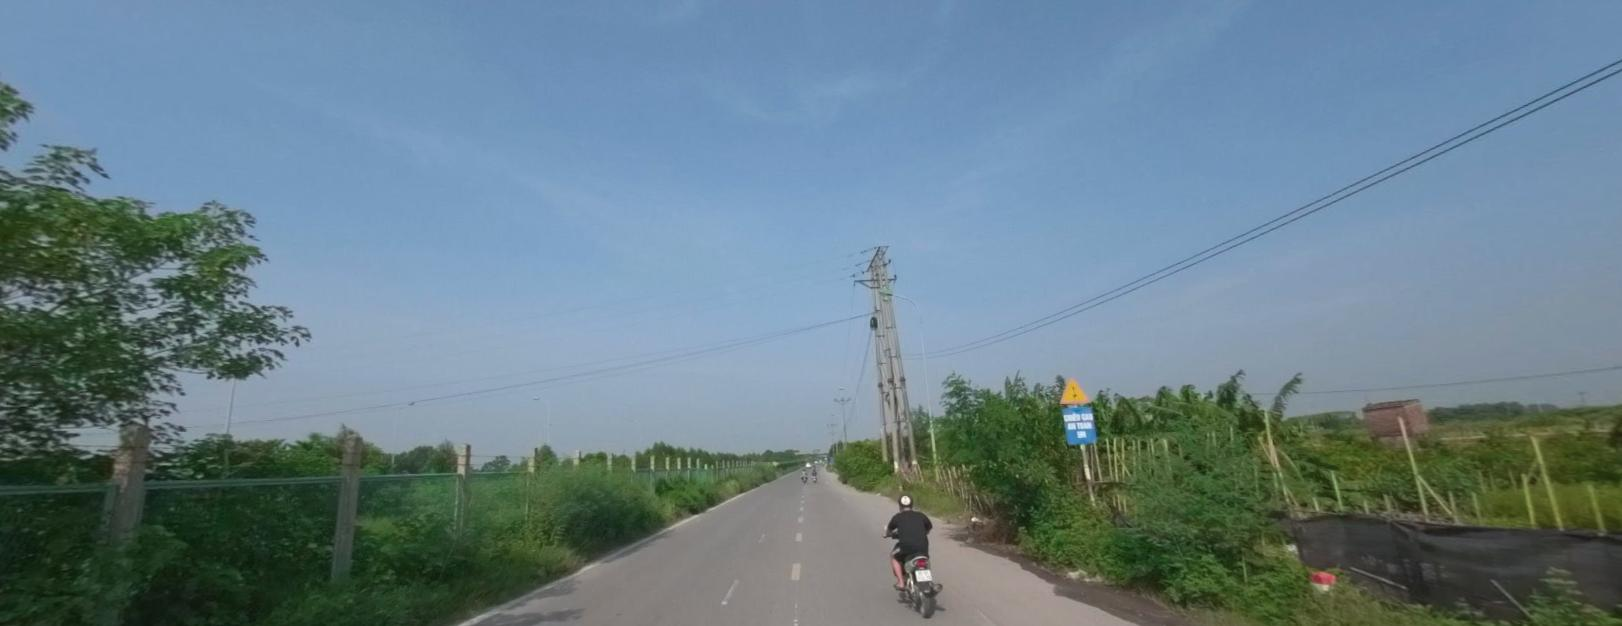Nguy hiem: (1059, 376, 1088, 403)
